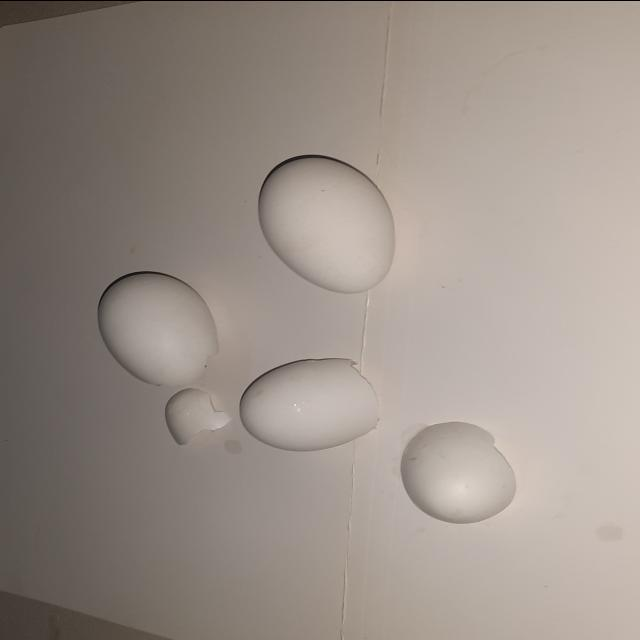egg shell: (252, 150, 404, 304), (232, 352, 390, 453), (97, 268, 227, 390), (390, 416, 530, 526), (162, 386, 233, 447)
